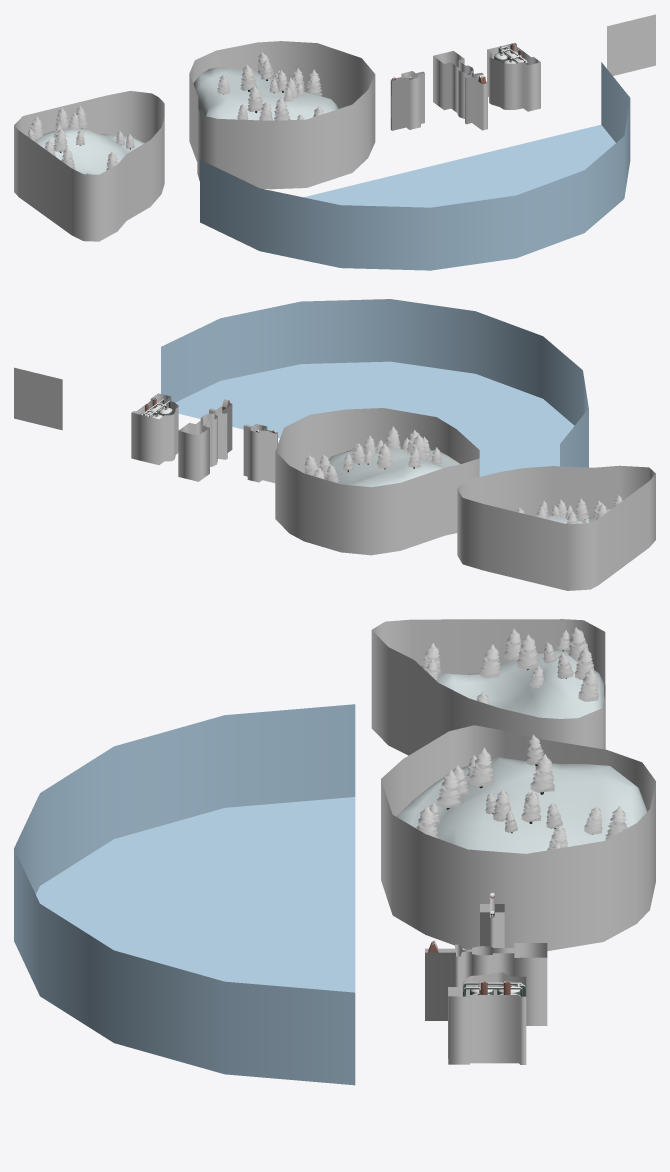
The model's file is assets_t5_a3.fbx.
3 views of the same model, one above another, from view 1: azimuth 30°, elevation 25°; view 2: azimuth 150°, elevation 25°; view 3: azimuth 270°, elevation 25° (orthographic). The views are drawn at different scales.
Parts seen in each view (by area): view 1: ground_t5_era3, godray_2, godray_1, Asset2, Asset1, godray_4, godray_5, Asset6, godray_3, Asset5; view 2: ground_t5_era3, godray_1, godray_2, Asset2, godray_4, godray_5, Asset6, godray_3, Asset1, Asset5; view 3: ground_t5_era3, godray_2, godray_1, Asset2, Asset1, godray_5, godray_4, godray_3.
Part boxes in pixels (bbox=[...]): ground_t5_era3: bbox=[200, 62, 630, 270]; godray_2: bbox=[189, 41, 375, 189]; godray_1: bbox=[14, 91, 164, 241]; Asset2: bbox=[193, 52, 338, 120]; Asset1: bbox=[28, 106, 144, 174]; godray_4: bbox=[433, 51, 487, 130]; godray_5: bbox=[487, 43, 540, 111]; Asset6: bbox=[607, 14, 655, 75]; godray_3: bbox=[390, 71, 424, 130]; Asset5: bbox=[494, 43, 527, 64]; ground_t5_era3: bbox=[161, 299, 588, 476]; godray_1: bbox=[457, 465, 655, 590]; godray_2: bbox=[275, 408, 479, 555]; Asset2: bbox=[304, 426, 460, 487]; godray_4: bbox=[178, 403, 232, 481]; godray_5: bbox=[131, 393, 178, 464]; Asset6: bbox=[14, 367, 62, 430]; godray_3: bbox=[243, 424, 277, 482]; Asset1: bbox=[515, 495, 622, 524]; Asset5: bbox=[140, 398, 172, 418]; ground_t5_era3: bbox=[14, 704, 355, 1085]; godray_2: bbox=[381, 725, 655, 951]; godray_1: bbox=[371, 619, 605, 755]; Asset2: bbox=[396, 734, 647, 853]; Asset1: bbox=[421, 627, 603, 718]; godray_5: bbox=[448, 972, 526, 1064]; godray_4: bbox=[425, 943, 547, 1025]; godray_3: bbox=[480, 894, 504, 947].
Size of the model in its own units: 247 by 32.41 by 152.
